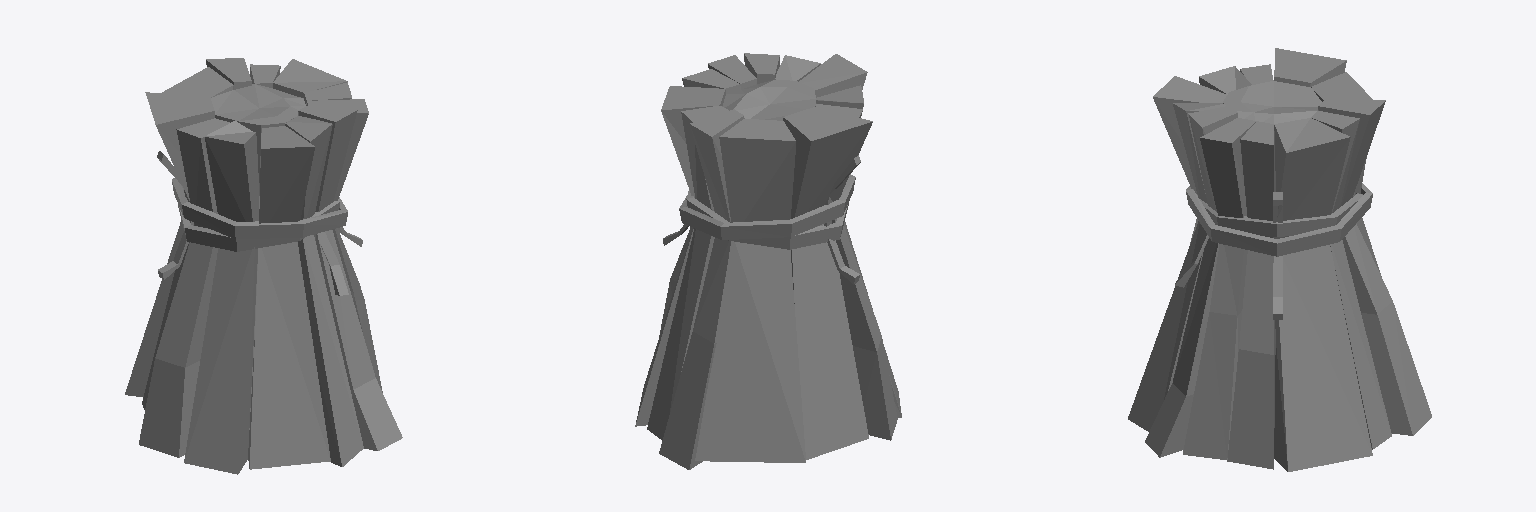
Rendered from haystack_02.obj.
The picture shows the model from 3 angles: view 1: azimuth 30°, elevation 25°; view 2: azimuth 150°, elevation 25°; view 3: azimuth 270°, elevation 25°; orthographic projection.
Bounding box in the file's own units: 0.8414 × 1.06 × 0.9231.